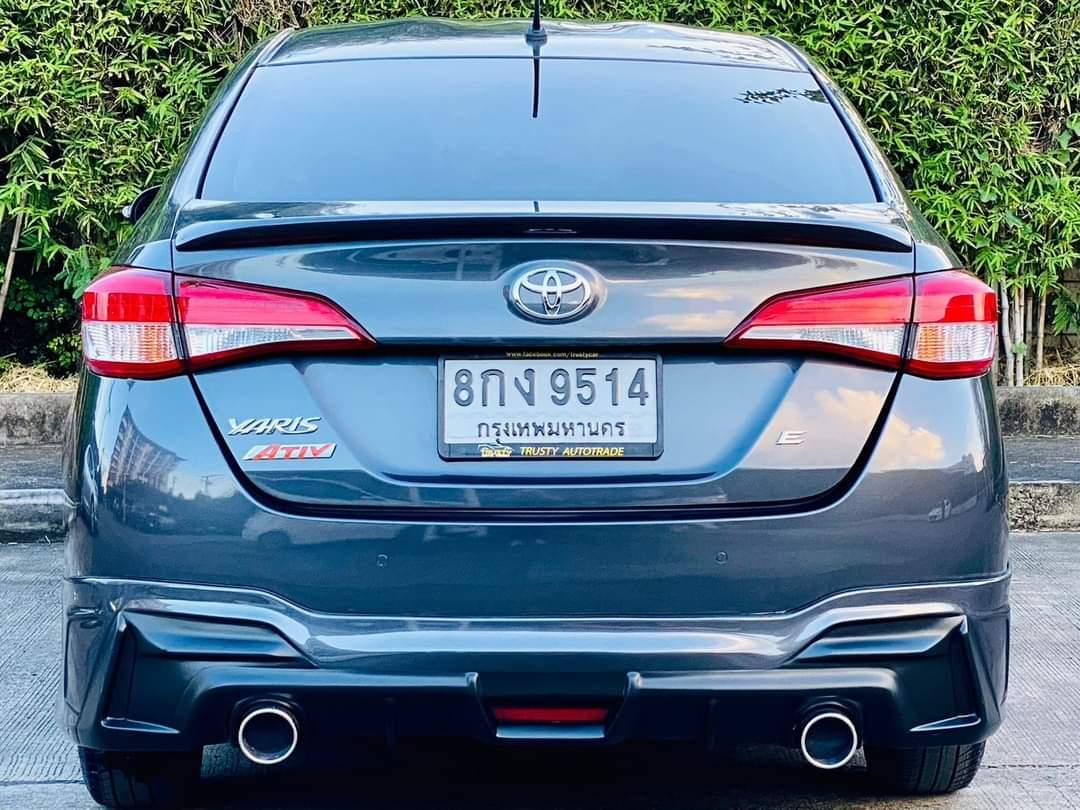license-plate: (438, 340, 666, 460)
